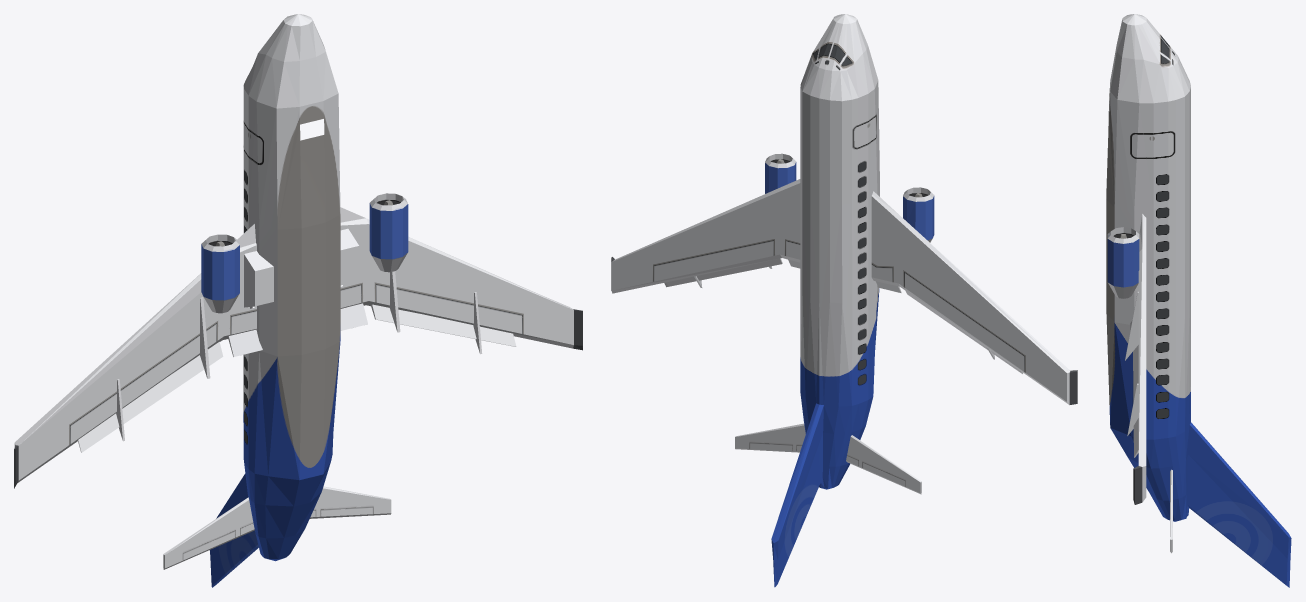
File: Airplane-cleaned.rotated.glb
3 views of the same model, side by side, from view 1: azimuth 30°, elevation 25°; view 2: azimuth 150°, elevation 25°; view 3: azimuth 270°, elevation 25° (orthographic). The views are drawn at different scales.
Visible parts, largest first — view 1: Airplane; view 2: Airplane; view 3: Airplane.
Boxes of the visible parts, bbox=[...] form: Airplane: bbox=[14, 14, 582, 587]; Airplane: bbox=[611, 14, 1077, 587]; Airplane: bbox=[1106, 14, 1291, 587].
Size of the model in its own units: 0.932 by 0.997 by 0.2913.
1 material, 1 textured.
